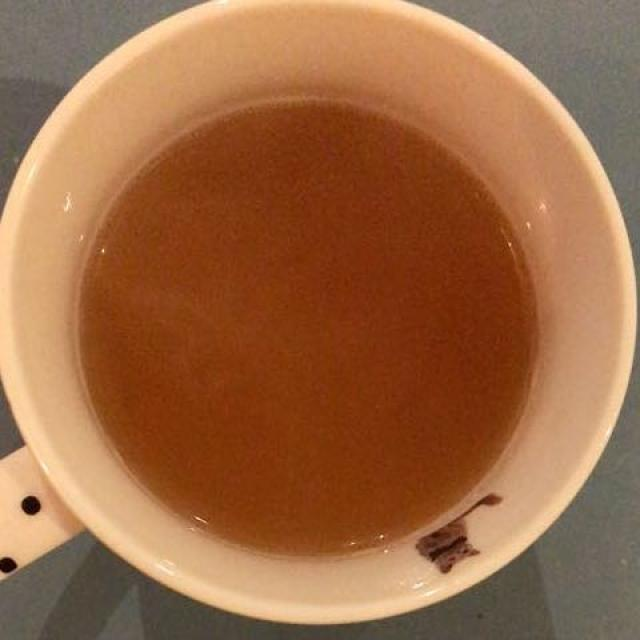water: (83, 106, 582, 560)
